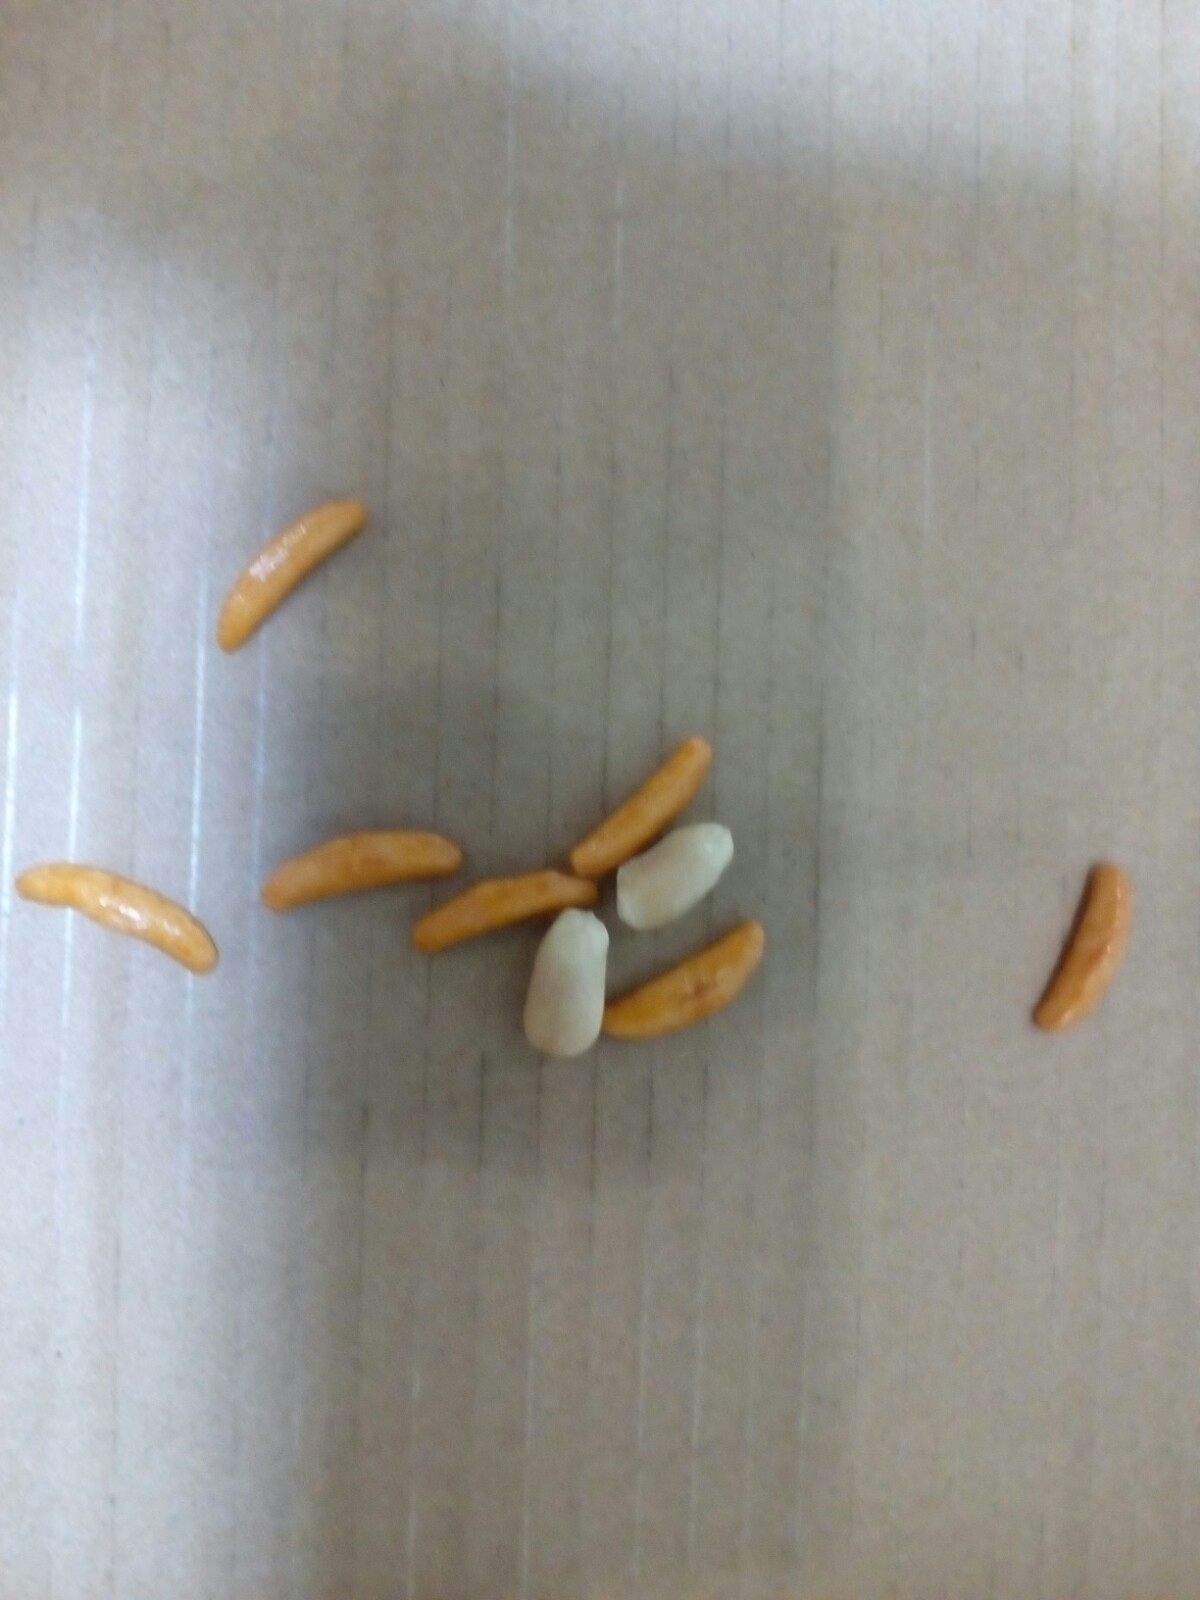peanut: (514, 893, 616, 1070), (605, 810, 739, 939)
